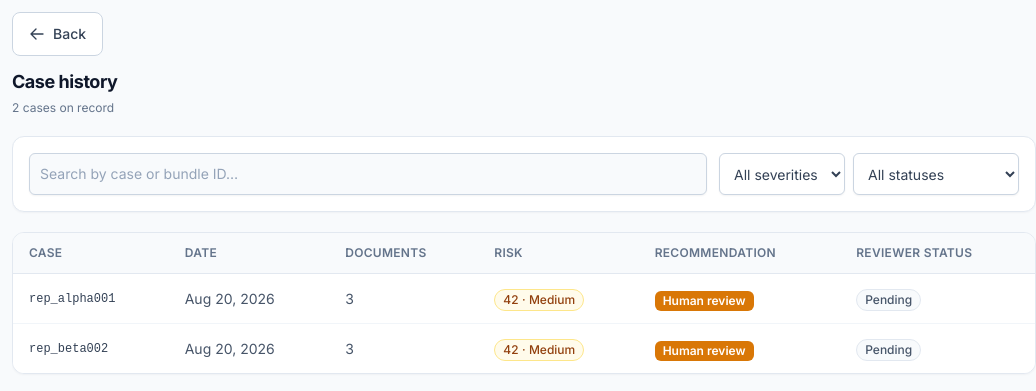
Test: CaseHistory › filters rows by search text against report_id
Check: the button "rep_alpha001" is shown, box [29,291,115,307]
Check: the button "rep_beta002" is shown, box [29,341,108,357]
In the field labelled "Search by case or bundle ID…": [368, 174] box [29,153,707,195], type "alpha"
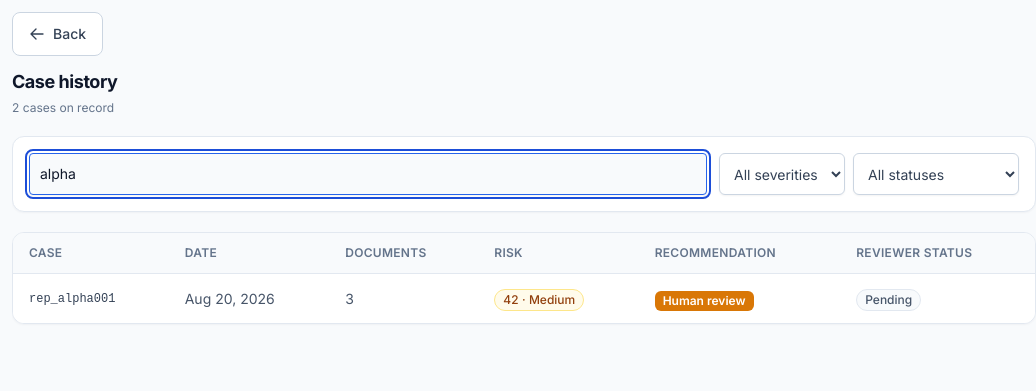
Check: the button "rep_alpha001" is shown, box [29,291,115,307]
Check: the button "rep_beta002" is gone
